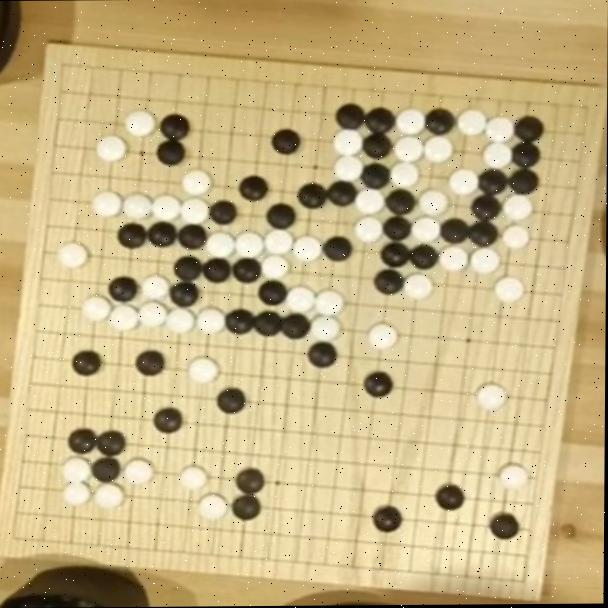corners: (504, 564, 540, 595), (571, 92, 600, 122), (0, 520, 29, 549), (50, 50, 80, 74)
